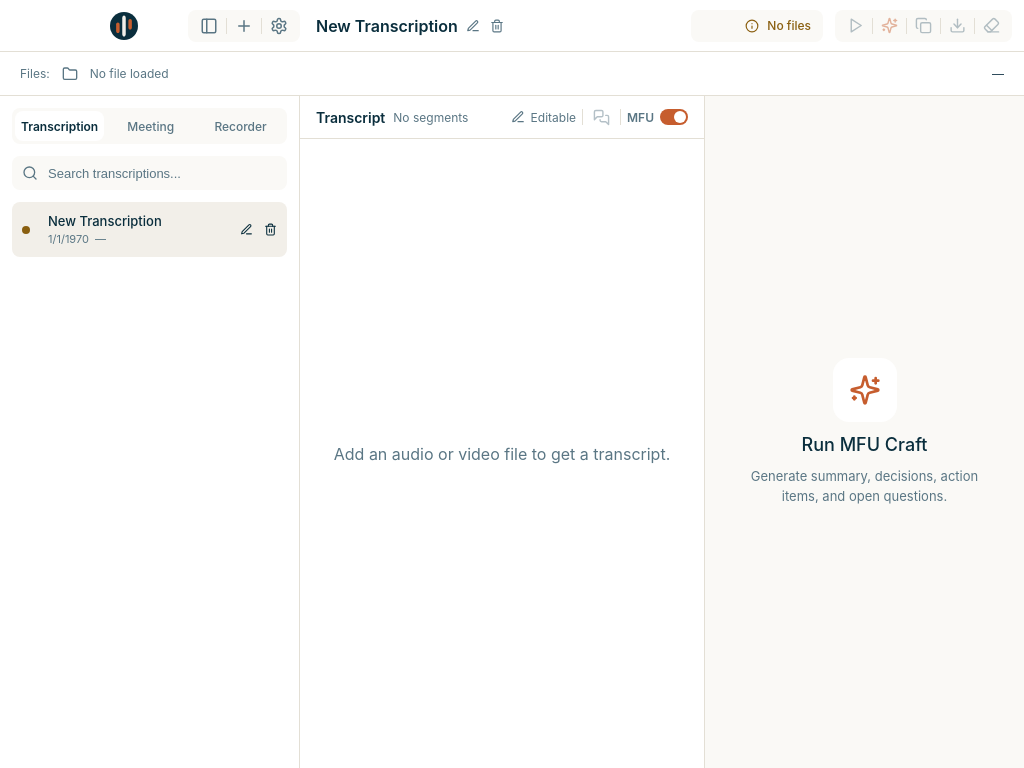
Test: App — English strings › shows the detected non-Russian language after transcription
What coordinates should you click on to do the following:
click the button named "Choose file"
I would click on:
 (70, 74)
Its box is [58, 62, 82, 86].
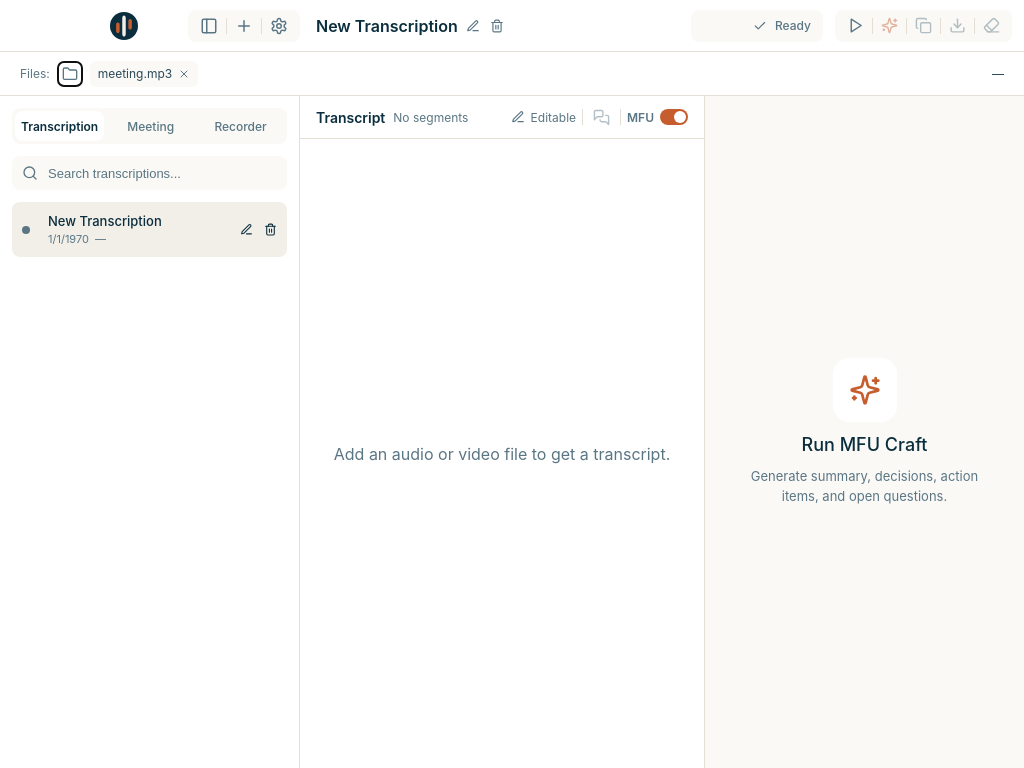
Check: the button named "Transcribe" is enabled
What coordinates should you click on to do the following:
click the button named "Transcribe"
I would click on:
 (856, 26)
Its box is [843, 13, 868, 38].
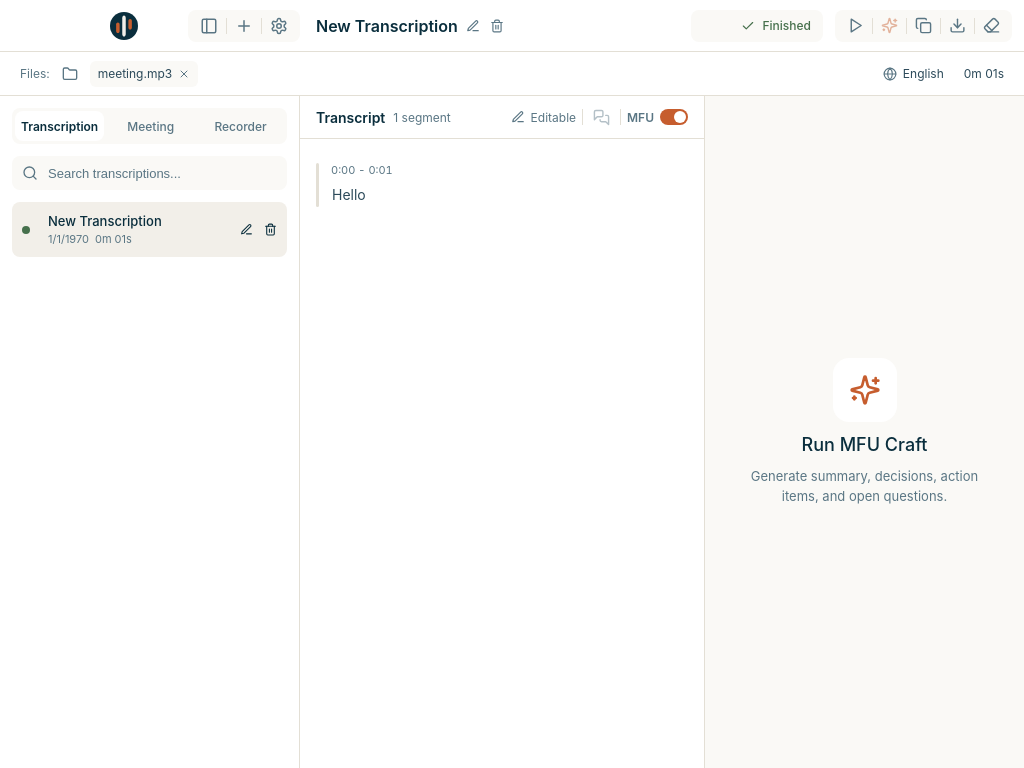
Check: the text "English" is shown, box [883, 66, 944, 81]
